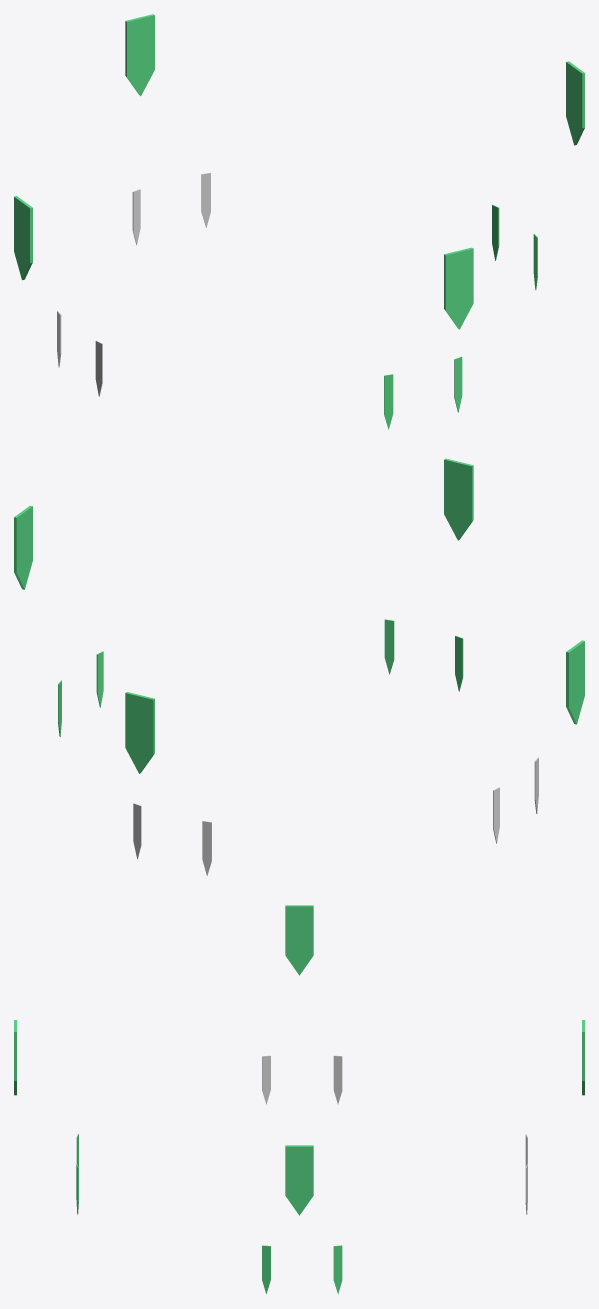
Rendered from Estandartes.fbx.
The picture shows the model from 3 angles, top to bottom: view 1: azimuth 30°, elevation 25°; view 2: azimuth 150°, elevation 25°; view 3: azimuth 270°, elevation 25°; orthographic projection. The views are drawn at different scales.
Visible parts, largest first — view 1: Cube.052, Cube.051, Cube.050, Cube.049; view 2: Cube.051, Cube.052, Cube.049, Cube.050; view 3: Cube.050, Cube.049.
Boxes of the visible parts, x1,y1,x2,y2 form: Cube.052: (125,14,154,96); Cube.051: (444,247,473,329); Cube.050: (566,61,584,145); Cube.049: (14,196,32,280); Cube.051: (444,458,473,540); Cube.052: (125,692,154,773); Cube.049: (566,640,584,724); Cube.050: (14,505,32,589); Cube.050: (285,1145,313,1215); Cube.049: (285,905,313,975).
Bounding box in the file's own units: 4035 × 1356 × 4035.
